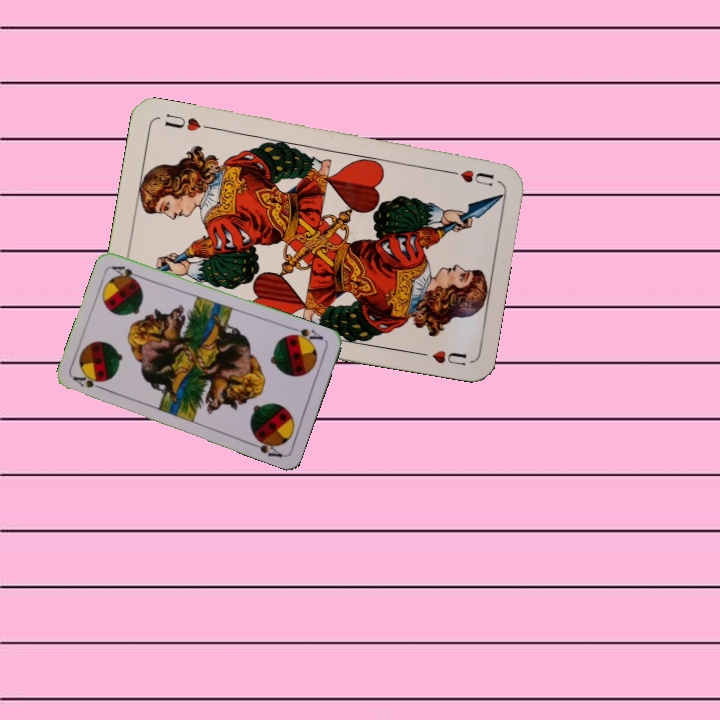HU: (440, 165, 497, 189)
SA: (286, 323, 326, 347), (69, 372, 109, 393)
